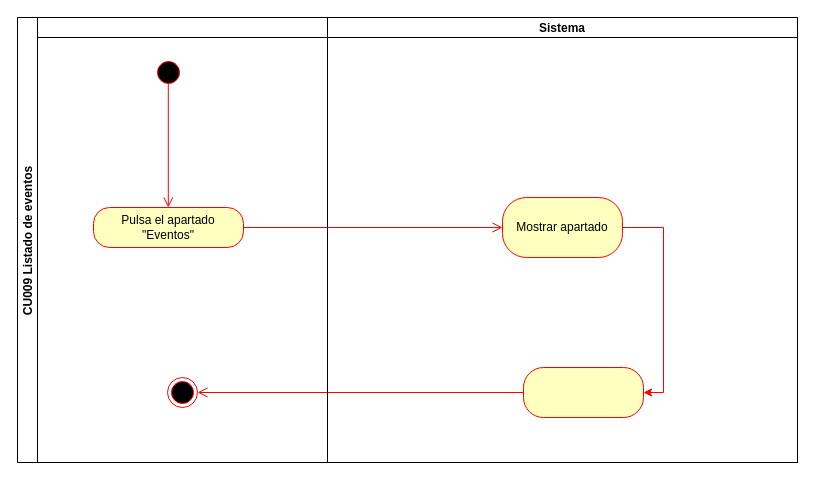
The diagram is 815 pixels wide and 480 high, and some of its shapes have lost their labels. The shapes that lost their labels are listed below. From the top down, each one's box as (x1, y1, x2, y2) in pixels, then its label:
(36, 16, 328, 462): Usuario
(522, 366, 644, 418): Mostrar listado eventos
